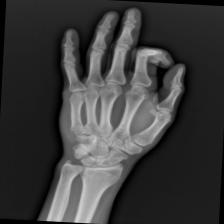intra-articular-fracture: (31, 1, 195, 224)
